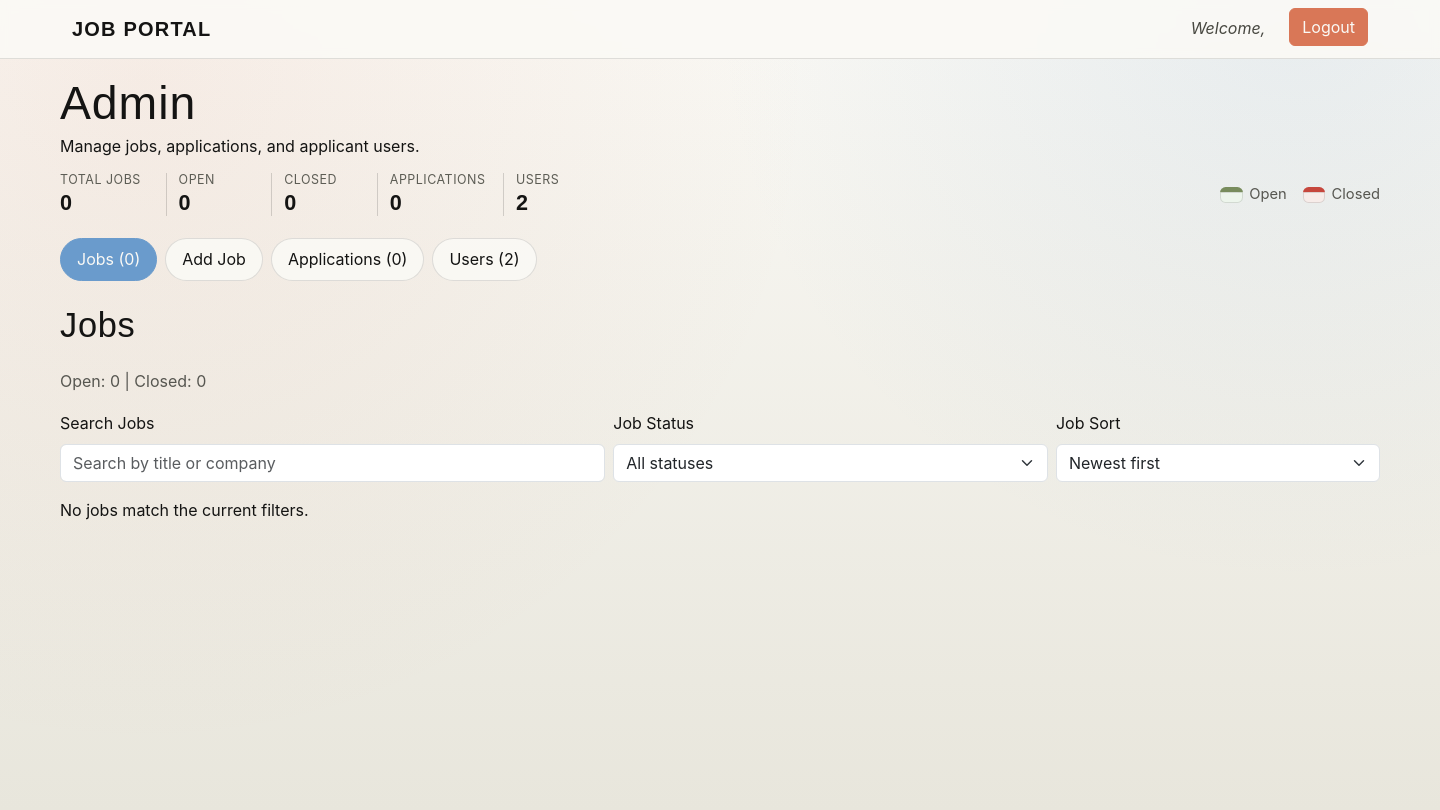
Test: AdminDashboard › should show admin users as read-only and applicant users as enable-disable only
The width and height of the screenshot is (1440, 810).
Click the tab "Users (2)".
click(484, 260)  # box [432,238,536,281]
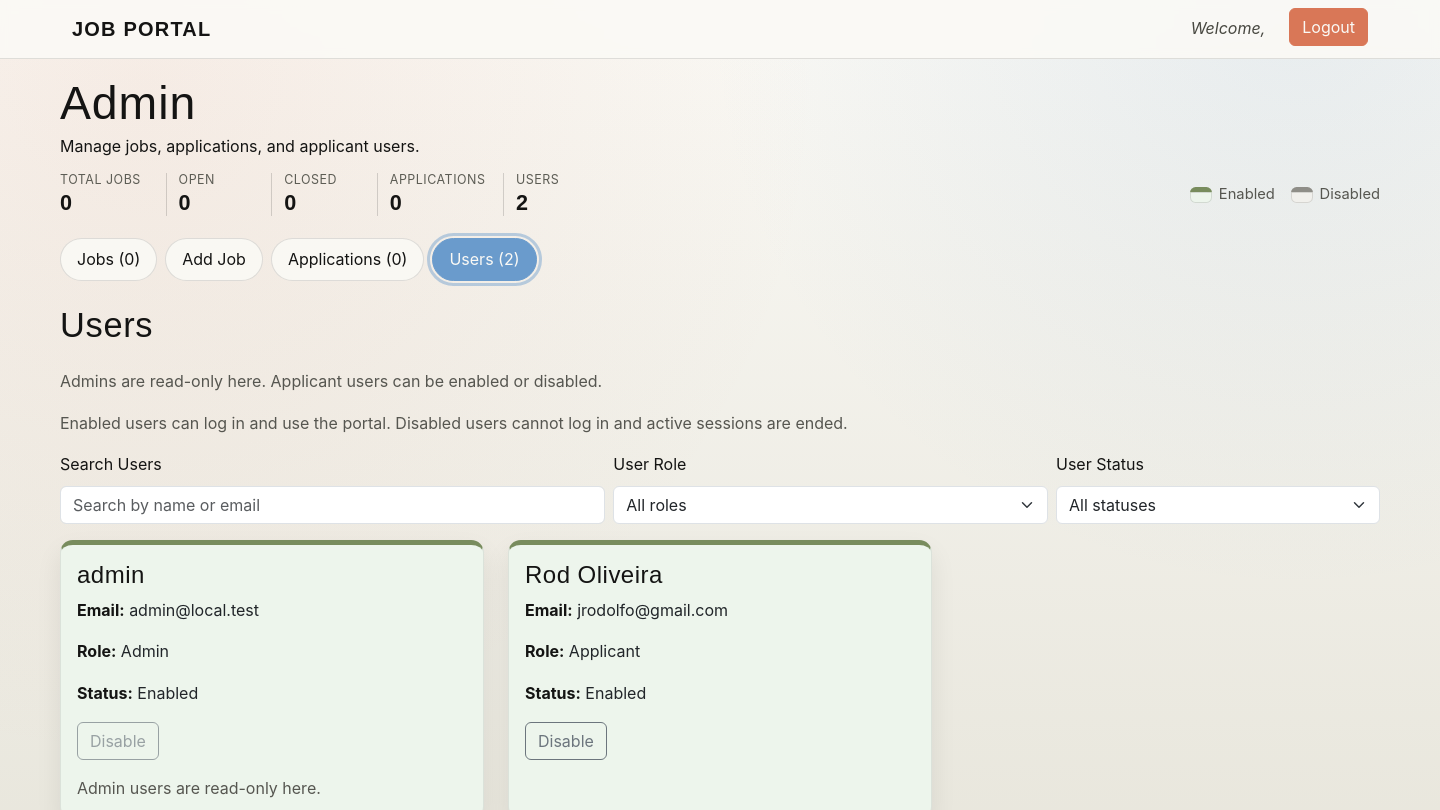
Check: the text "Admins are read-only here. Applicant users can be enabled or disabled." is shown, box [60,371,602,391]
Check: the text "Enabled users can log in and use the portal. Disabled users cannot log in and active sessions are ended." is shown, box [60,413,848,433]
Check: the element named "Users color legend" shows "Enabled", box [1219,185,1275,203]
